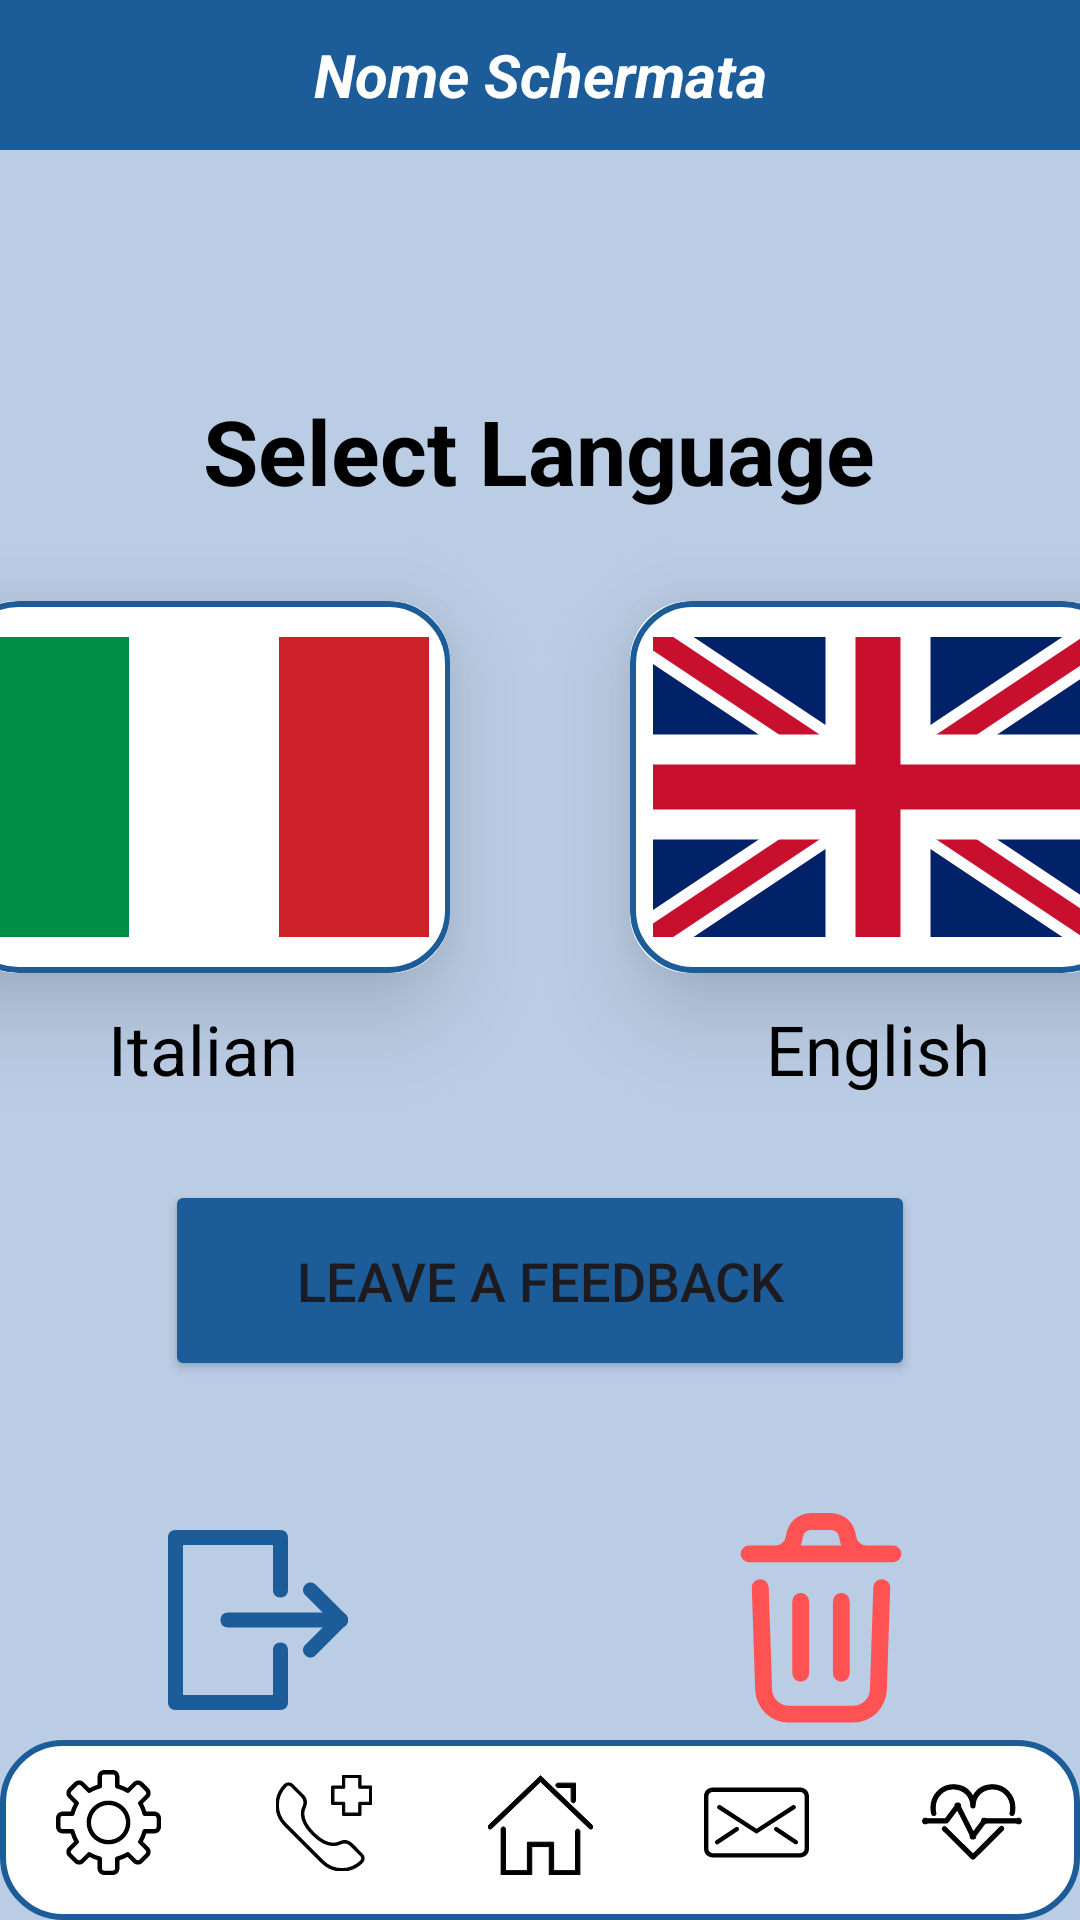

Locate icon controls on the screen. Image size 1080px x 1920px, boxes as (x1, y1, x2, y2).
home: (488, 1775, 593, 1875)
message: (704, 1787, 809, 1858)
sos: (276, 1775, 372, 1871)
